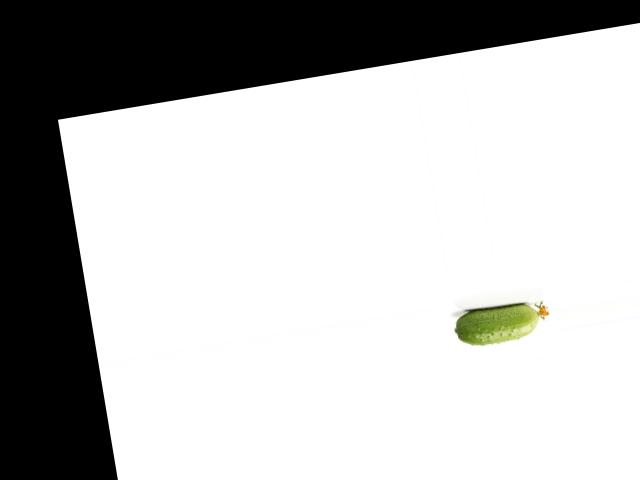cucumber: (450, 297, 551, 349)
